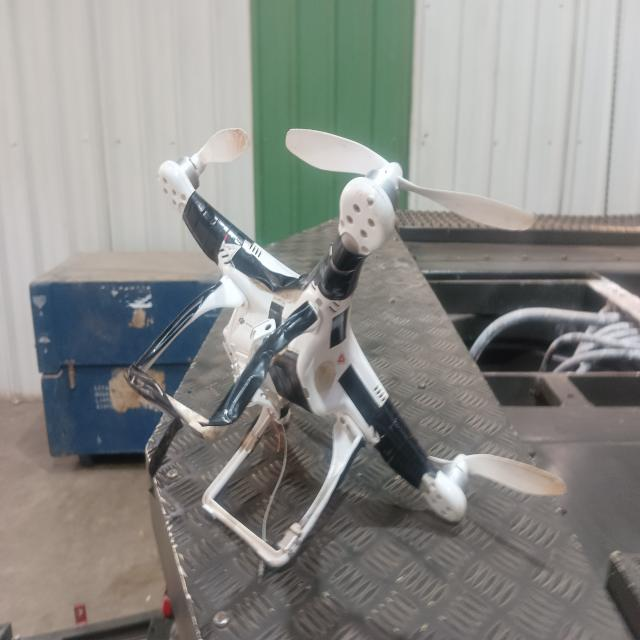drone: (104, 111, 582, 568)
